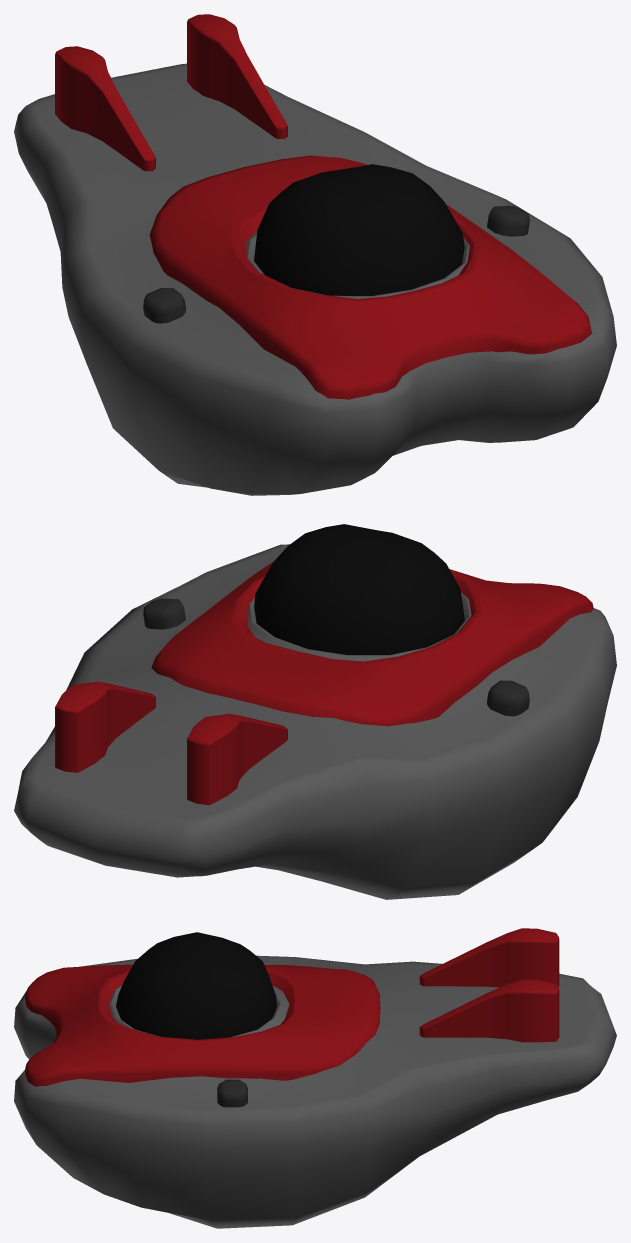
File: Ship_enemy_03_Hull.fbx
The picture shows the model from 3 angles, top to bottom: view 1: azimuth 30°, elevation 25°; view 2: azimuth 150°, elevation 25°; view 3: azimuth 270°, elevation 25°; orthographic projection. The views are drawn at different scales.
Parts seen in each view (by area): view 1: Ship_enemy_03_Hull; view 2: Ship_enemy_03_Hull; view 3: Ship_enemy_03_Hull.
Boxes of the visible parts, x1,y1,x2,y2 form: Ship_enemy_03_Hull: (14, 14, 616, 495); Ship_enemy_03_Hull: (14, 524, 616, 899); Ship_enemy_03_Hull: (14, 928, 616, 1228).
Size of the model in its own units: 344 by 203 by 509.
